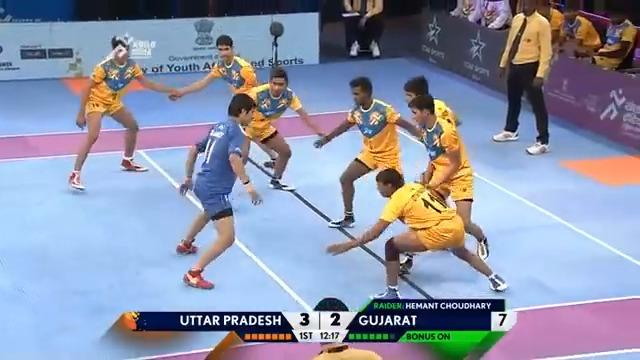Player: (324, 166, 509, 301), (65, 33, 177, 191), (312, 74, 423, 229), (259, 59, 292, 187), (410, 98, 473, 158), (199, 25, 253, 85), (401, 70, 443, 106)
Raider: (172, 91, 265, 291)
referee: (491, 0, 554, 155), (341, 0, 386, 58)
